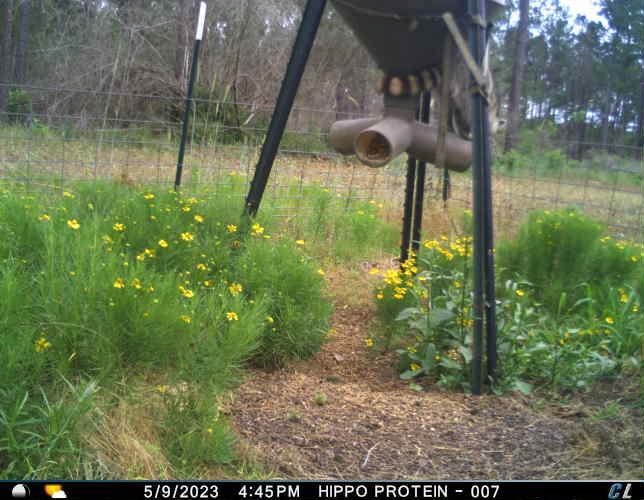Raccoon: (378, 54, 507, 137)
